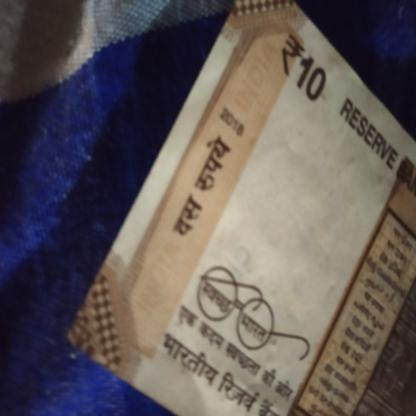New10Back: (120, 2, 415, 415)
